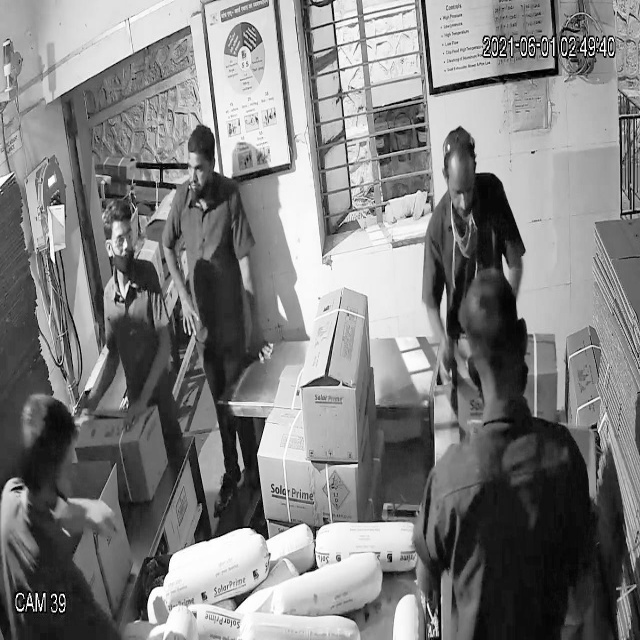Gafas: (99, 226, 140, 258)
Sin_gafas: (443, 175, 479, 206)
